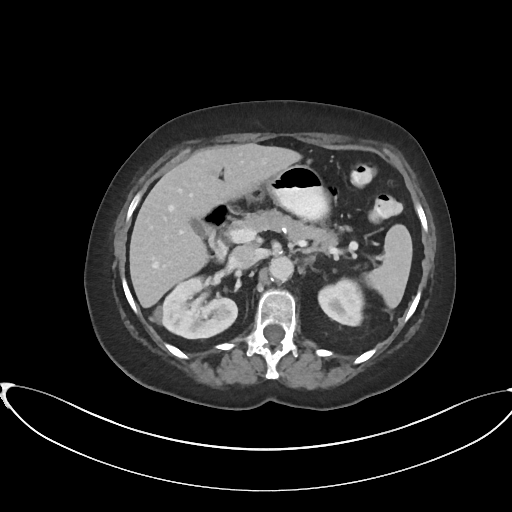Lesion: (148, 305, 168, 328)
